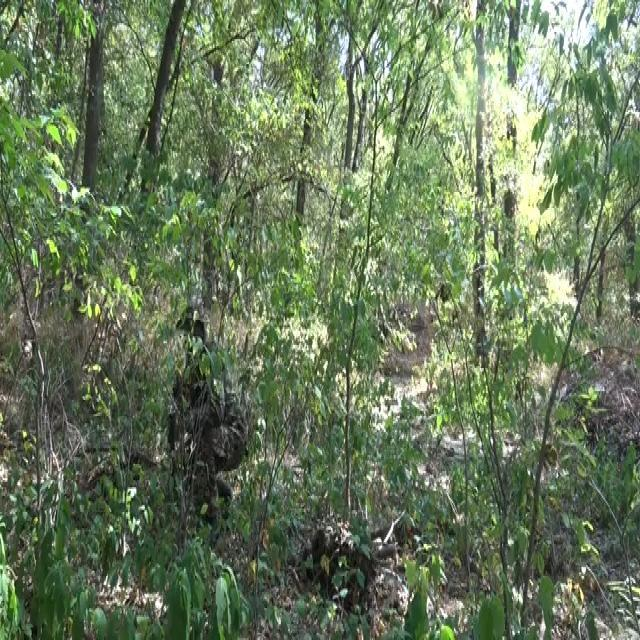MIL_Pax: (168, 302, 251, 548)
